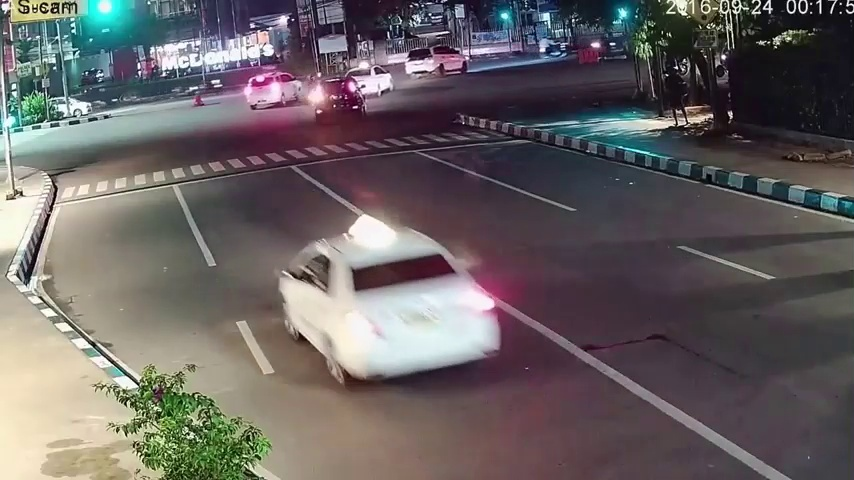car: (280, 223, 505, 389), (246, 70, 302, 112), (313, 78, 366, 120), (404, 47, 468, 78), (345, 63, 394, 95)
